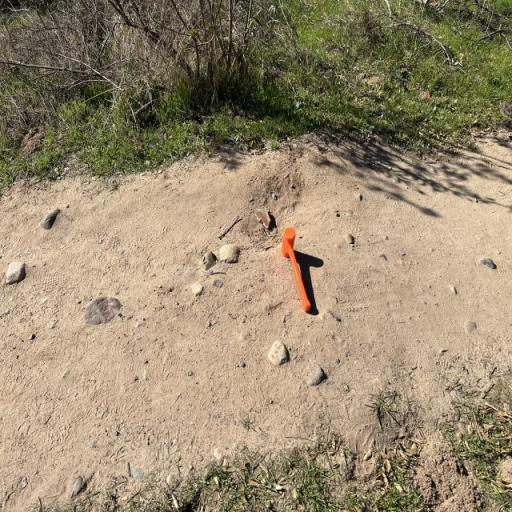mallet: (282, 227, 311, 313)
